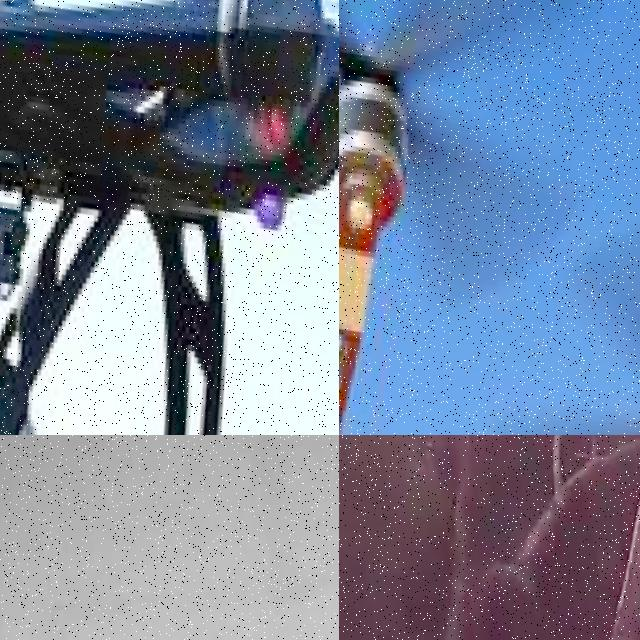drone: (0, 0, 339, 435), (339, 0, 640, 435)
